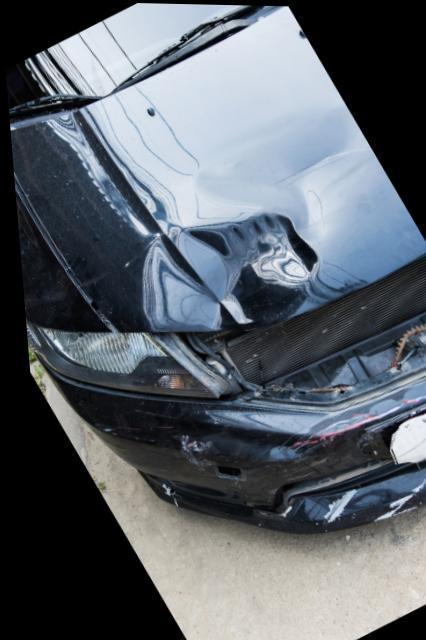dent: (170, 100, 369, 324), (137, 233, 217, 329)
no part: (158, 256, 426, 408)
scratch: (308, 458, 426, 528)
